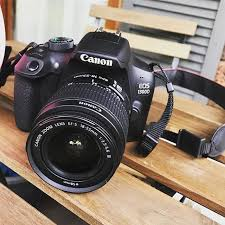camera: (15, 32, 154, 193)
